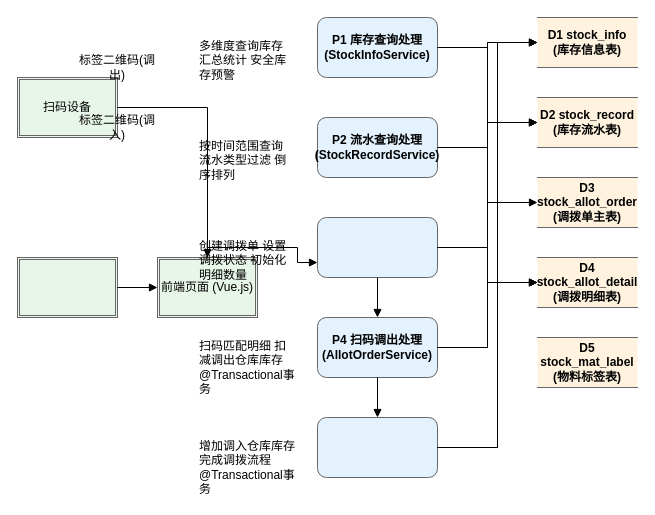
The diagram is 655 pixels wide and 515 high, and some of its shapes have lost their labels. Each missing label, with the centre of its shape:
"P3 调拨单处理 (AllotOrderService)" goes at [377,247].
"P5 扫码调入处理 (AllotOrderService)" goes at [377,447].
"管理员/仓管员" goes at [67,287].
